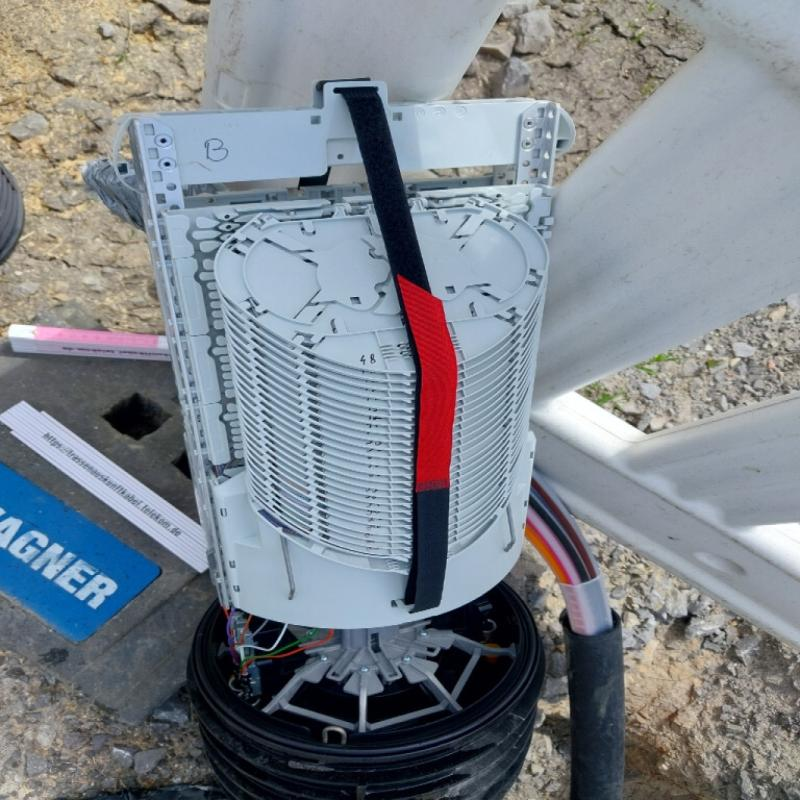NT-Muffen: (125, 91, 588, 800)
